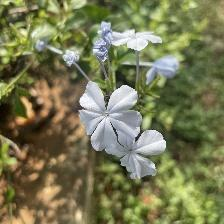chitrak: (76, 81, 140, 149), (114, 129, 168, 179), (111, 26, 163, 53)
